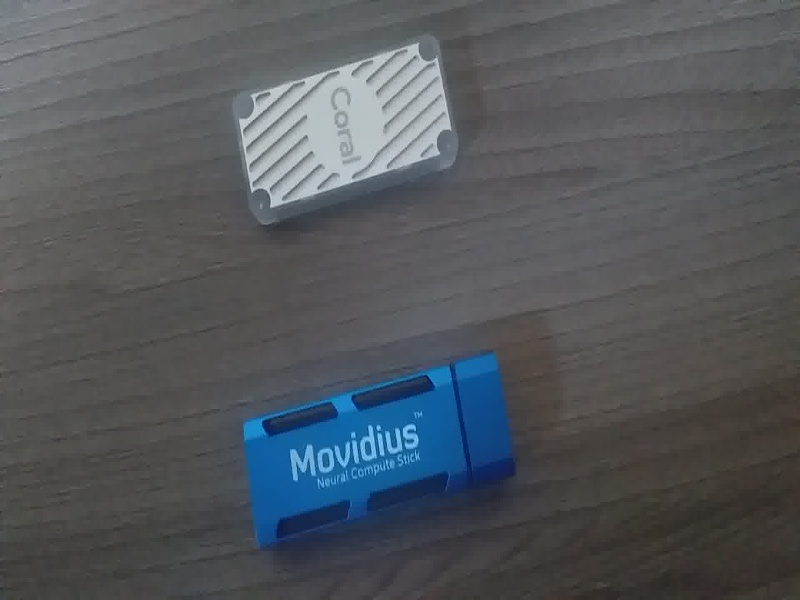coral: (214, 32, 485, 249)
movidius: (230, 341, 523, 552)
